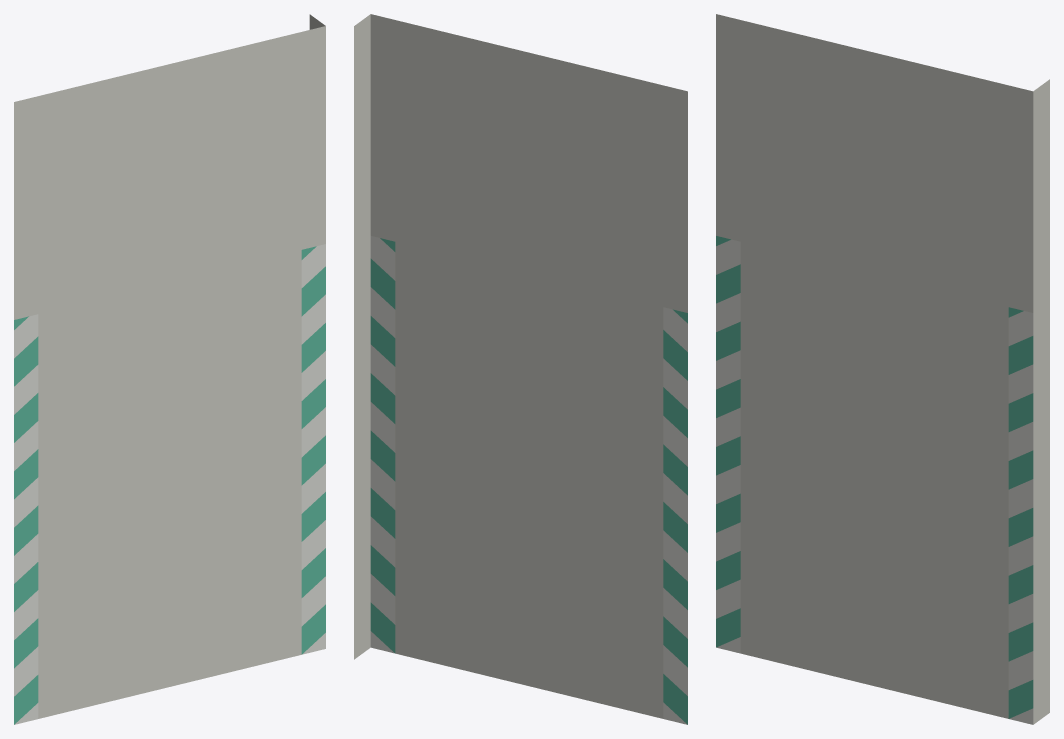
The model's file is jr_miyamasuzaka_visible_centre_pier_20250409_v001.glb.
3 views of the same model, side by side, from view 1: azimuth 30°, elevation 25°; view 2: azimuth 150°, elevation 25°; view 3: azimuth 330°, elevation 25° (orthographic).
Parts seen in each view (by area): view 1: visible_centre_pier_cladding_ONLY; view 2: visible_centre_pier_cladding_ONLY; view 3: visible_centre_pier_cladding_ONLY.
Boxes of the visible parts, x1=… form: visible_centre_pier_cladding_ONLY: x1=14, y1=14, x2=325, y2=724; visible_centre_pier_cladding_ONLY: x1=354, y1=14, x2=687, y2=724; visible_centre_pier_cladding_ONLY: x1=716, y1=14, x2=1049, y2=724.
Size of the model in its own units: 2.2 by 4.2 by 0.2.
